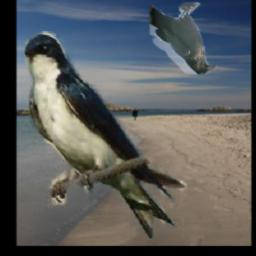Crow: (150, 2, 217, 74)
Swallow: (24, 32, 186, 240)
